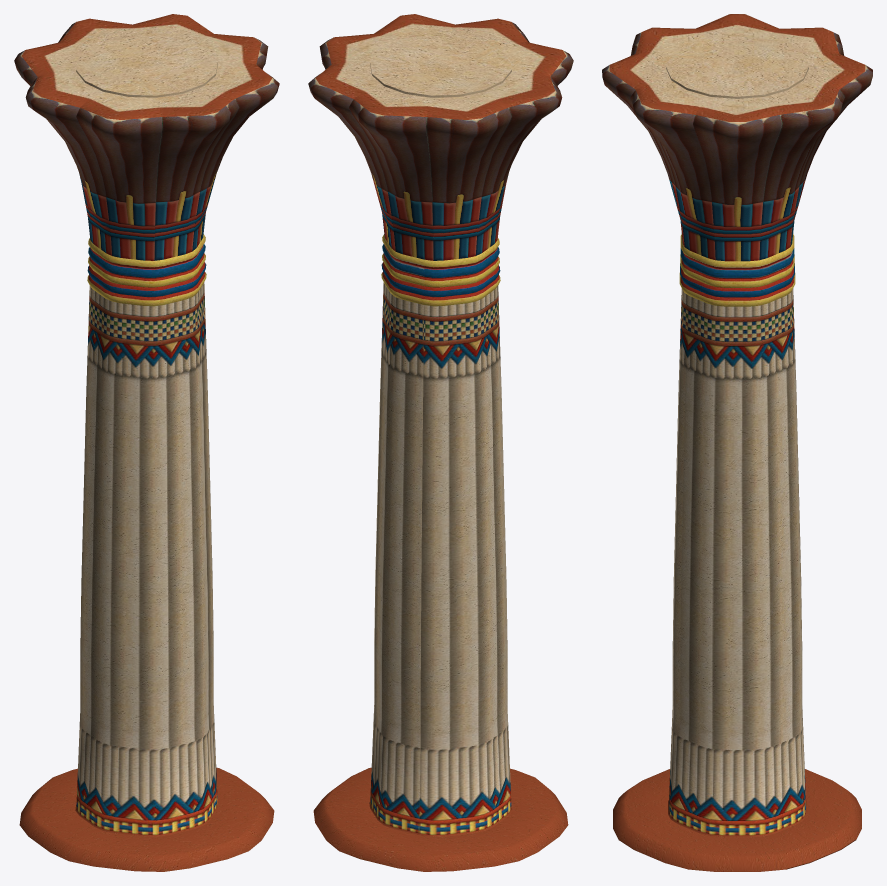
The model's file is column 4 entrance.FBX.
3 renders of one model, left to right at view 1: azimuth 30°, elevation 25°; view 2: azimuth 150°, elevation 25°; view 3: azimuth 270°, elevation 25°, orthographic.
Visible parts, largest first — view 1: column 4 entrance; view 2: column 4 entrance; view 3: column 4 entrance.
Boxes of the visible parts, <box> form: column 4 entrance: <box>14,14,279,871</box>; column 4 entrance: <box>308,14,573,871</box>; column 4 entrance: <box>602,14,872,871</box>.
Size of the model in its own units: 1903 by 5841 by 1903.
Materials: 1 (1 with a texture image).
